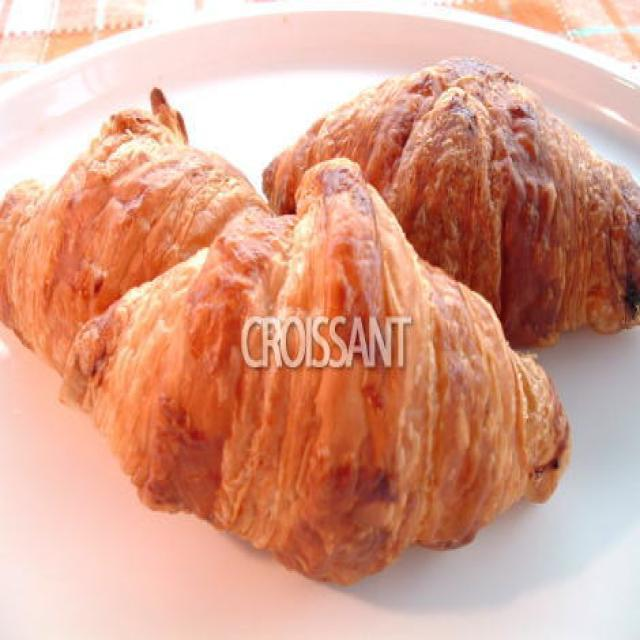Croissant: (46, 157, 601, 584)
